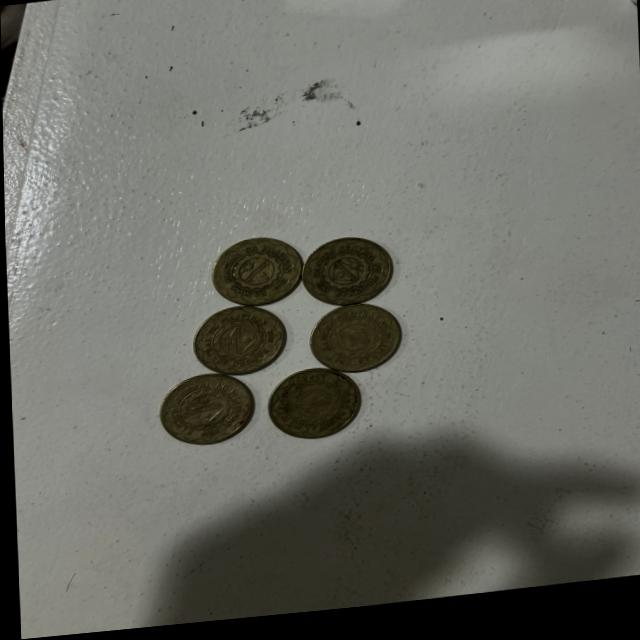5_Old_Back: (147, 372, 255, 451), (299, 304, 402, 383), (267, 368, 367, 449), (185, 307, 289, 378), (300, 238, 394, 316), (212, 235, 306, 312)
